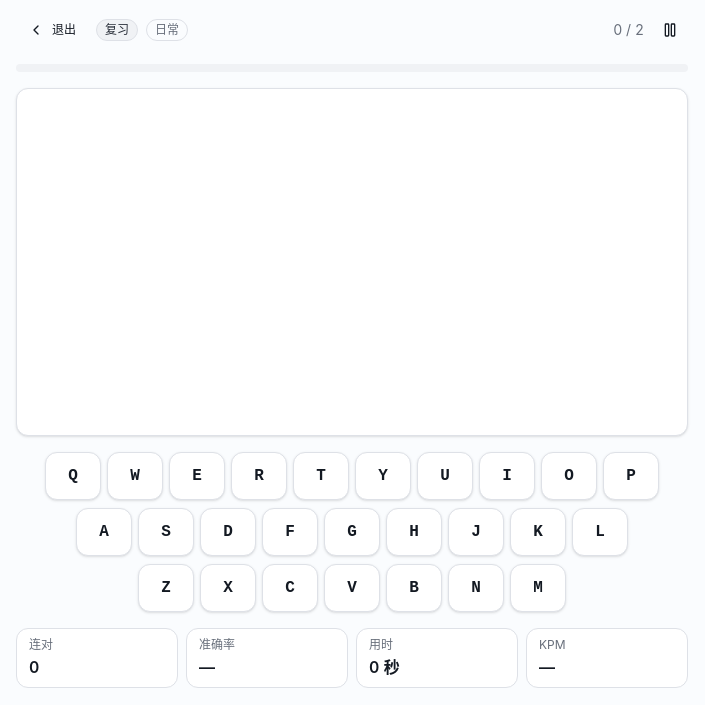
Test: PracticeView › Escape 暂停,继续练习恢复
Press Escape in the field named "编码输入区", box 16,88 -> 688,436
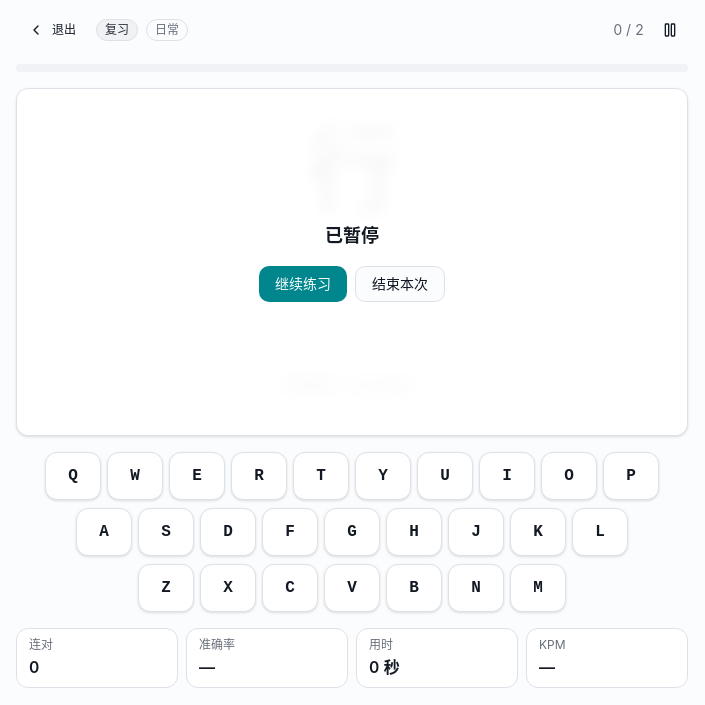
Now the text "已暂停" is shown, box 325,222 -> 379,250
Click the button "继续练习".
click(303, 284)  # box 259,266 -> 347,302
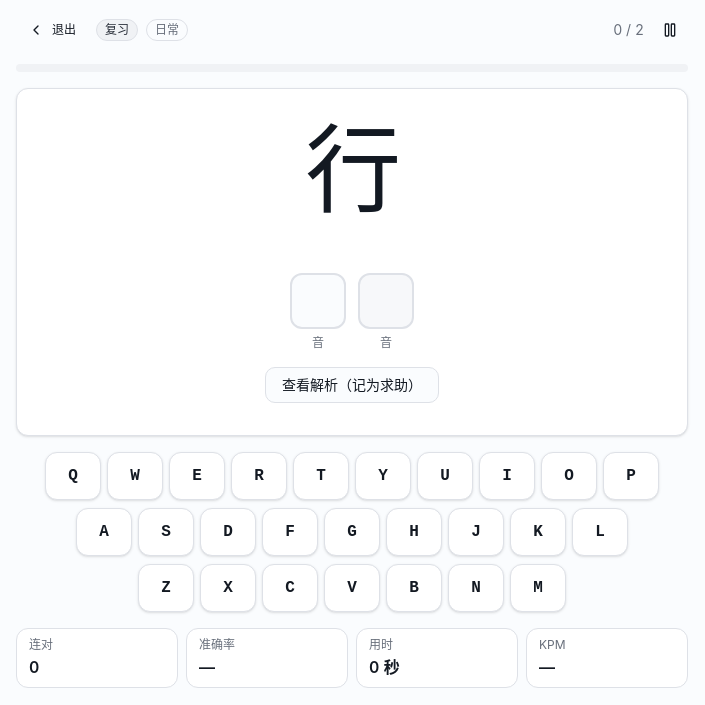
Now the text "已暂停" is gone
Press x in the field named "编码输入区", box 16,88 -> 688,436
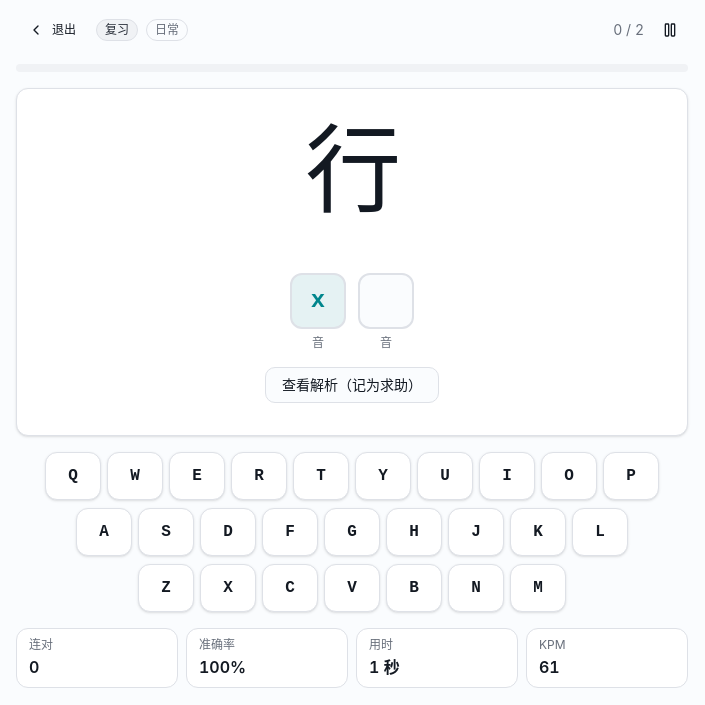
Now the element named "编码 2 键,已输入 1 键" is shown, box 290,273 -> 414,351
